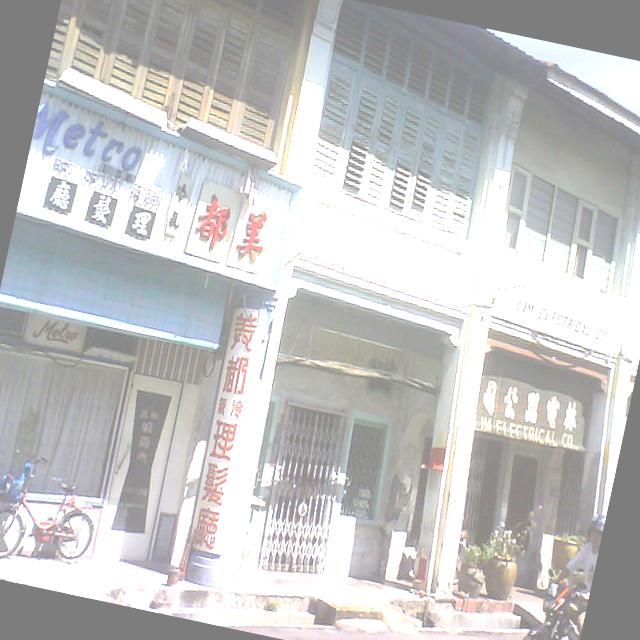Vehicle: (504, 561, 593, 640)
